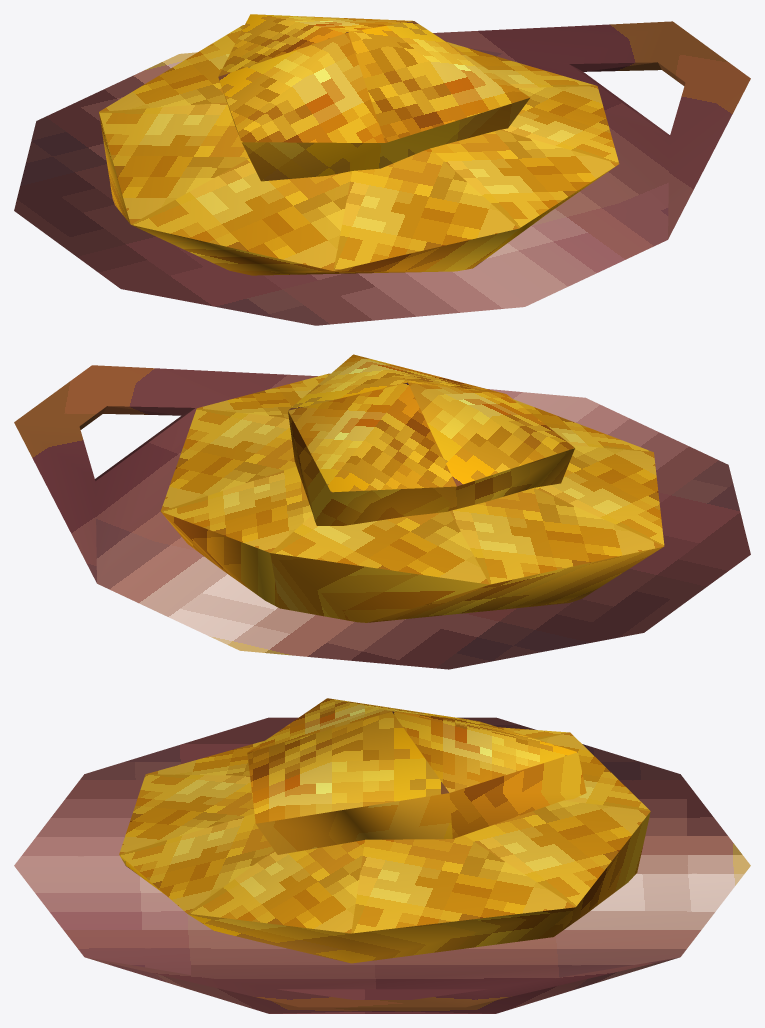
The model's file is edb_food_muffin_l2.fbx.
3 renders of one model, top to bottom at view 1: azimuth 30°, elevation 25°; view 2: azimuth 150°, elevation 25°; view 3: azimuth 270°, elevation 25°, orthographic. The views are drawn at different scales.
Visible parts, largest first — view 1: mesh_node; view 2: mesh_node; view 3: mesh_node.
Boxes of the visible parts, bbox=[...] form: mesh_node: bbox=[14, 14, 750, 325]; mesh_node: bbox=[14, 354, 750, 669]; mesh_node: bbox=[14, 698, 750, 1013].
Size of the model in its own units: 0.3293 by 0.0809 by 0.3059.
